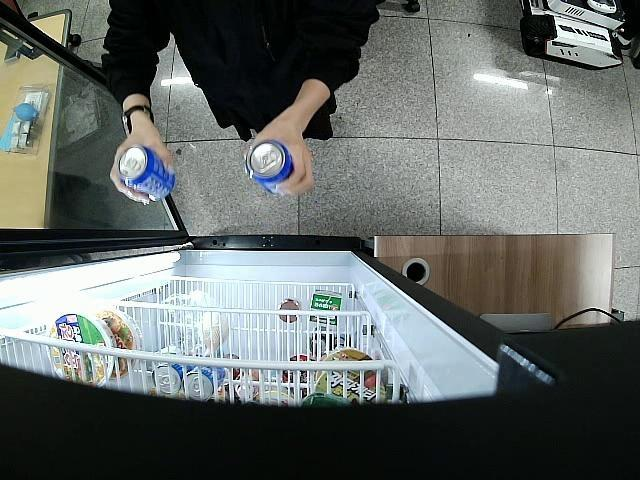13_pocariSweat: (116, 143, 176, 201), (245, 139, 294, 195)
